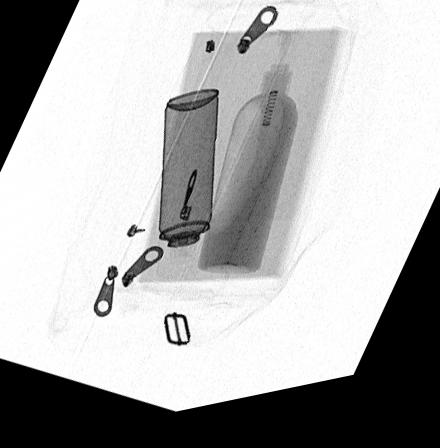Sprayer: (155, 97, 217, 290)
